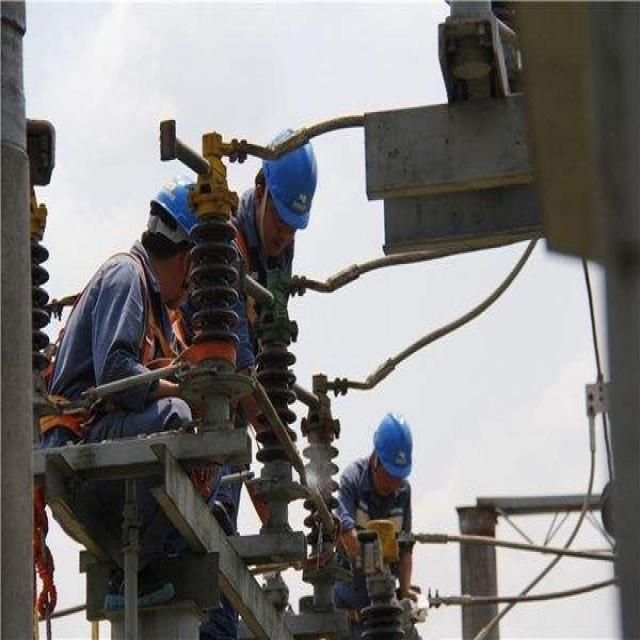helmet: (143, 231, 209, 404), (253, 167, 320, 329), (367, 540, 415, 640)
